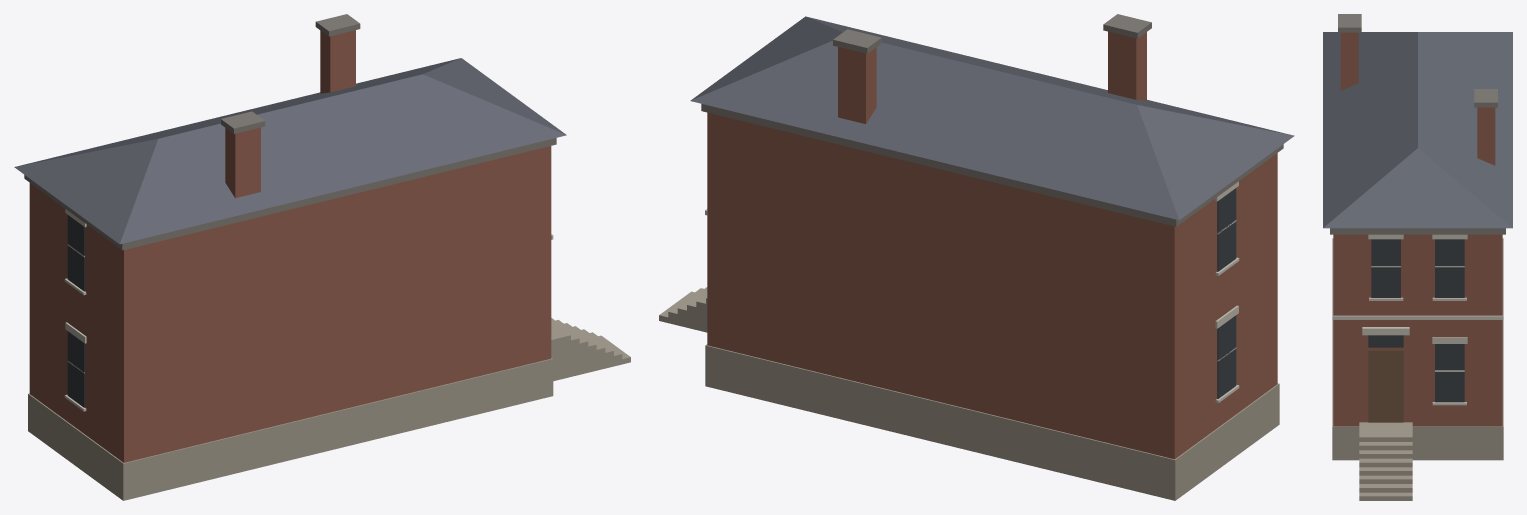
Rendered from forsyth_house_1635_prairie__draft_1904.glb.
The picture shows the model from 3 angles, left to right: view 1: azimuth 30°, elevation 25°; view 2: azimuth 150°, elevation 25°; view 3: azimuth 270°, elevation 25°; orthographic projection. The views are drawn at different scales.
Visible parts, largest first — view 1: forsyth_house_1635_prairie__draft_1904; view 2: forsyth_house_1635_prairie__draft_1904; view 3: forsyth_house_1635_prairie__draft_1904.
Part boxes in pixels (bbox=[...]): forsyth_house_1635_prairie__draft_1904: bbox=[14, 14, 630, 500]; forsyth_house_1635_prairie__draft_1904: bbox=[659, 14, 1294, 500]; forsyth_house_1635_prairie__draft_1904: bbox=[1323, 14, 1512, 500].
Size of the model in its own units: 18.65 by 11.48 by 6.42.
